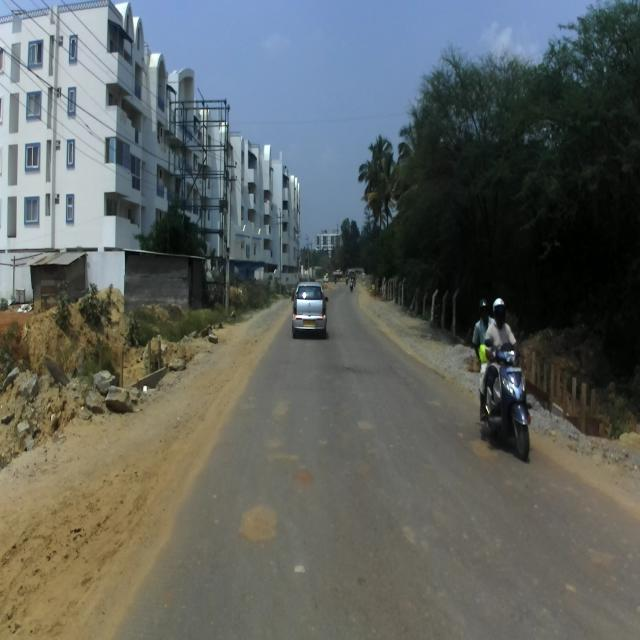car ahead at: (289, 281, 329, 343)
motorcycle ahead at: (473, 336, 532, 458)
stones ahead at: (82, 360, 143, 427)
